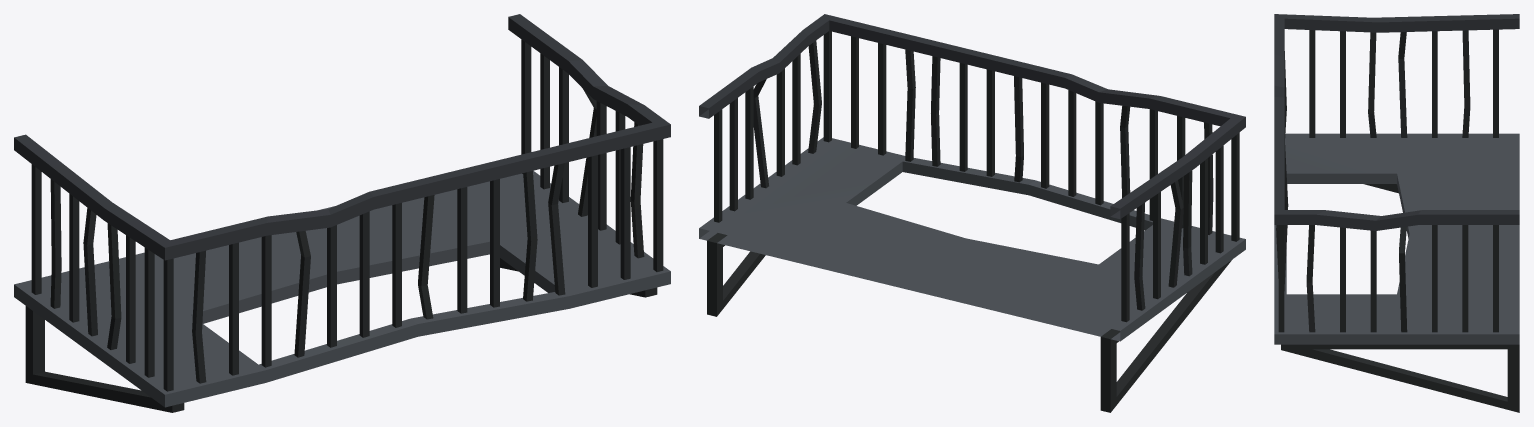
The model's file is SM_Bld_FireEscape_01_932.obj.
The picture shows the model from 3 angles, left to right: view 1: azimuth 30°, elevation 25°; view 2: azimuth 150°, elevation 25°; view 3: azimuth 270°, elevation 25°; orthographic projection. The views are drawn at different scales.
Parts seen in each view (by area): view 1: SM_Bld_FireEscape_01_0; view 2: SM_Bld_FireEscape_01_0; view 3: SM_Bld_FireEscape_01_0.
Part boxes in pixels (x1,y1,x2,y2): SM_Bld_FireEscape_01_0: (14, 14, 670, 412); SM_Bld_FireEscape_01_0: (699, 14, 1245, 412); SM_Bld_FireEscape_01_0: (1274, 14, 1519, 412).
Bounding box in the file's own units: 3.25 × 1.49 × 1.64.
1 material, 1 textured.
